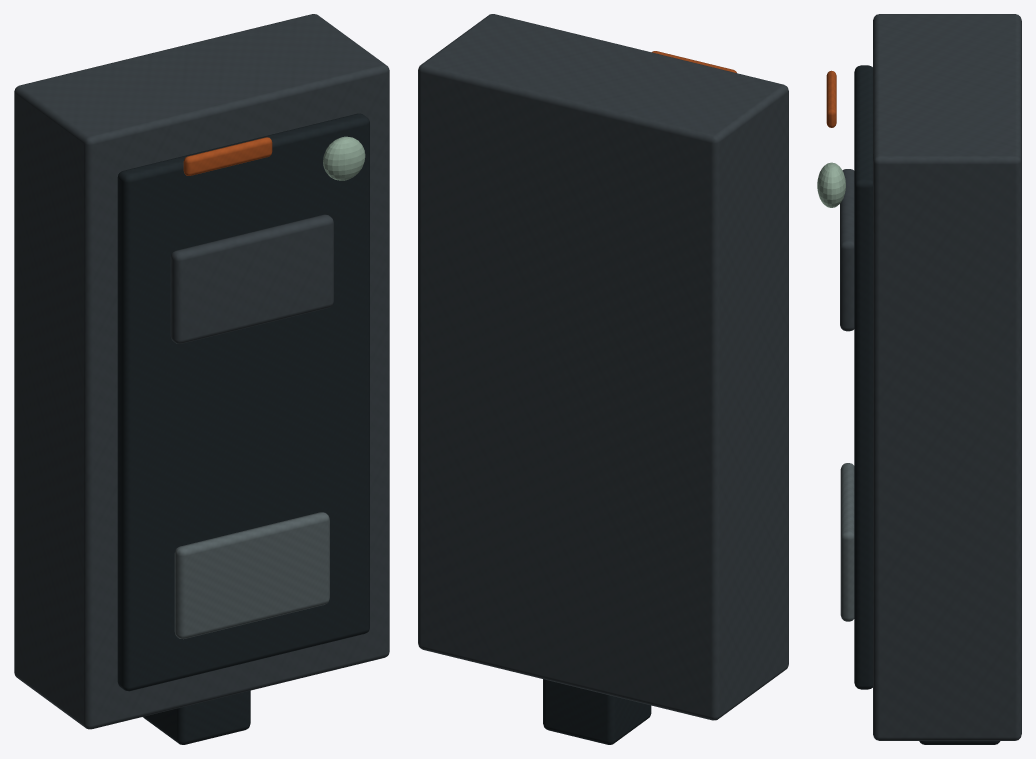
Rendered from GasDetector.fbx.
The picture shows the model from 3 angles, left to right: view 1: azimuth 30°, elevation 25°; view 2: azimuth 150°, elevation 25°; view 3: azimuth 270°, elevation 25°; orthographic projection.
Parts seen in each view (by area): view 1: GasDetector_Mesh; view 2: GasDetector_Mesh; view 3: GasDetector_Mesh.
Boxes of the visible parts, x1,y1,x2,y2 form: GasDetector_Mesh: (14,14,389,744); GasDetector_Mesh: (418,14,788,744); GasDetector_Mesh: (817,14,1021,744).
Size of the model in its own units: 42 by 86 by 24.75.
